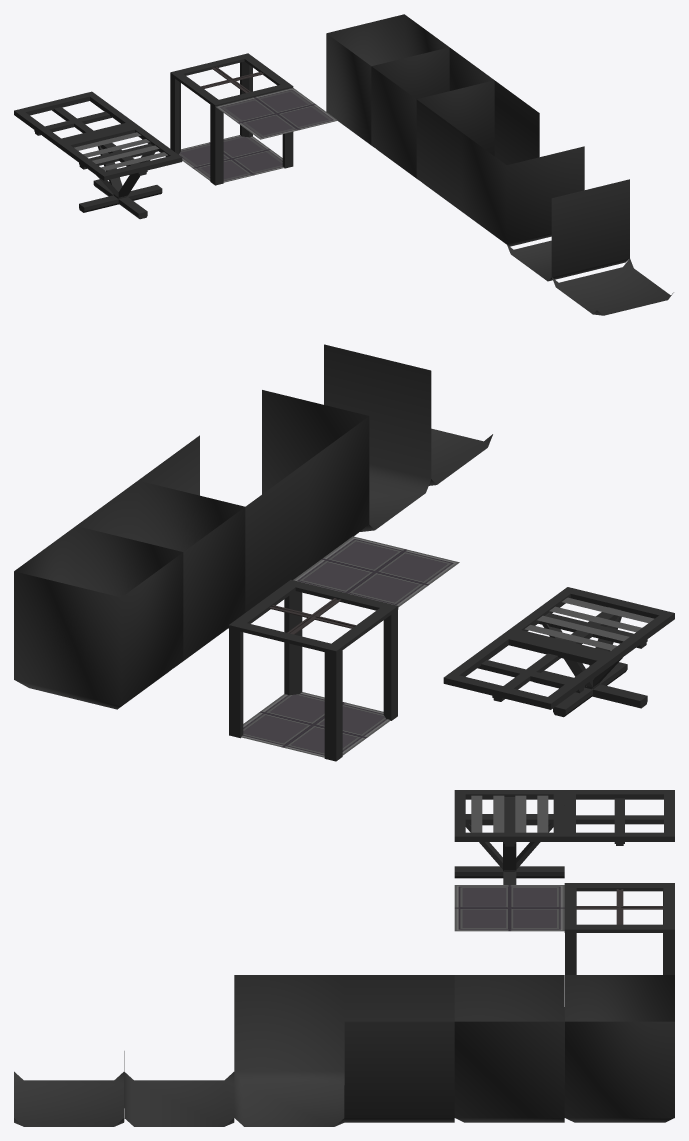
The model's file is Lattices&Plenums.fbx.
3 renders of one model, top to bottom at view 1: azimuth 30°, elevation 25°; view 2: azimuth 150°, elevation 25°; view 3: azimuth 270°, elevation 25°, orthographic. The views are drawn at different scales.
Parts seen in each view (by area): view 1: PlenumCoverO, PlenumCoverL, PlenumCoverU, Plenum, PlenumCoverT, PlenumCoverI, Catwalk, PlenumCoverX, Plating, Lattice; view 2: PlenumCoverO, Plenum, PlenumCoverU, PlenumCoverL, PlenumCoverT, Catwalk, PlenumCoverI, Plating, Lattice, PlenumCoverX; view 3: PlenumCoverL, PlenumCoverI, PlenumCoverU, PlenumCoverO, Catwalk, PlenumCoverT, PlenumCoverX, Plating, Plenum, Lattice.
Part boxes in pixels (bbox=[...]): PlenumCoverO: bbox=[326, 14, 449, 146]; PlenumCoverL: bbox=[461, 132, 584, 246]; PlenumCoverU: bbox=[371, 47, 494, 179]; Plenum: bbox=[170, 53, 293, 185]; PlenumCoverT: bbox=[507, 179, 629, 281]; PlenumCoverI: bbox=[416, 80, 539, 213]; Catwalk: bbox=[59, 124, 182, 219]; PlenumCoverX: bbox=[552, 258, 673, 315]; Plating: bbox=[215, 88, 337, 139]; Lattice: bbox=[14, 91, 136, 147]; PlenumCoverO: bbox=[14, 526, 183, 709]; Plenum: bbox=[228, 580, 398, 761]; PlenumCoverU: bbox=[76, 480, 245, 667]; PlenumCoverL: bbox=[262, 390, 369, 569]; PlenumCoverT: bbox=[324, 344, 431, 531]; Catwalk: bbox=[506, 587, 674, 717]; PlenumCoverI: bbox=[138, 435, 307, 612]; Plating: bbox=[293, 536, 459, 607]; Lattice: bbox=[443, 632, 612, 709]; PlenumCoverX: bbox=[429, 428, 492, 485]; PlenumCoverL: bbox=[234, 975, 344, 1126]; PlenumCoverI: bbox=[344, 975, 454, 1122]; PlenumCoverU: bbox=[454, 975, 564, 1122]; PlenumCoverO: bbox=[564, 975, 674, 1122]; Catwalk: bbox=[454, 790, 564, 884]; PlenumCoverT: bbox=[124, 1051, 234, 1126]; PlenumCoverX: bbox=[14, 1071, 124, 1126]; Plating: bbox=[454, 885, 564, 931]; Plenum: bbox=[564, 883, 674, 974]; Lattice: bbox=[564, 790, 674, 845].
Bounding box in the file's own units: 5 × 1.05 × 6.
